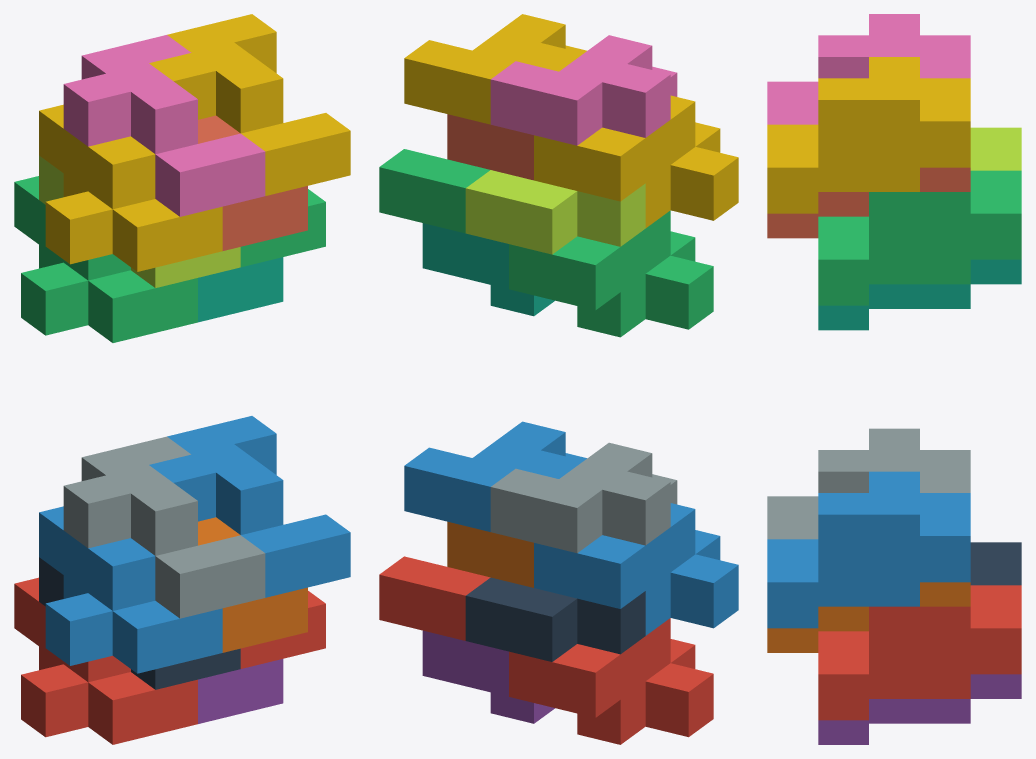
The model's file is tiling.obj.
3 renders of one model, left to right at view 1: azimuth 30°, elevation 25°; view 2: azimuth 150°, elevation 25°; view 3: azimuth 270°, elevation 25°, orthographic. The views are drawn at different scales.
Parts seen in each view (by area): view 1: copy_2_domain_2, copy_2_domain_4, copy_1_domain_2, copy_1_domain_4, copy_2_domain_8, copy_2_domain_6, copy_1_domain_1, copy_1_domain_3, copy_1_domain_6, copy_1_domain_8, copy_1_domain_7, copy_1_domain_5 (+4 smaller); view 2: copy_1_domain_1, copy_1_domain_3, copy_1_domain_4, copy_1_domain_2, copy_2_domain_2, copy_2_domain_4, copy_2_domain_1, copy_2_domain_3, copy_2_domain_6, copy_2_domain_8, copy_2_domain_5, copy_2_domain_7 (+4 smaller); view 3: copy_2_domain_6, copy_2_domain_8, copy_2_domain_5, copy_2_domain_7, copy_2_domain_4, copy_2_domain_2, copy_1_domain_7, copy_1_domain_5, copy_1_domain_6, copy_1_domain_8, copy_2_domain_1, copy_2_domain_3.
Boxes of the visible parts, box(x1,y1,x2,y2) form: copy_2_domain_2: box(63, 436, 265, 618); copy_2_domain_4: box(63, 35, 265, 216); copy_1_domain_2: box(39, 506, 222, 673); copy_1_domain_4: box(39, 104, 222, 271); copy_2_domain_8: box(149, 14, 350, 195); copy_2_domain_6: box(149, 416, 350, 597); copy_1_domain_1: box(14, 577, 197, 744); copy_1_domain_3: box(14, 176, 197, 342); copy_1_domain_6: box(198, 517, 307, 652); copy_1_domain_8: box(198, 115, 307, 250); copy_1_domain_7: box(198, 257, 283, 322); copy_1_domain_5: box(198, 659, 283, 723); copy_1_domain_1: box(509, 618, 713, 744); copy_1_domain_3: box(509, 210, 713, 337); copy_1_domain_4: box(534, 95, 738, 227); copy_1_domain_2: box(534, 503, 738, 635); copy_2_domain_2: box(490, 442, 677, 553); copy_2_domain_4: box(490, 35, 677, 145); copy_2_domain_1: box(465, 577, 645, 661); copy_2_domain_3: box(465, 170, 645, 254); copy_2_domain_6: box(404, 421, 586, 531); copy_2_domain_8: box(404, 14, 586, 124); copy_2_domain_5: box(379, 556, 490, 640); copy_2_domain_7: box(379, 149, 489, 233); copy_2_domain_6: box(767, 471, 970, 628); copy_2_domain_8: box(767, 57, 970, 213); copy_2_domain_5: box(818, 585, 1021, 720); copy_2_domain_7: box(818, 170, 1021, 305); copy_2_domain_4: box(767, 14, 970, 124); copy_2_domain_2: box(767, 428, 970, 539); copy_1_domain_7: box(818, 259, 1021, 330); copy_1_domain_5: box(818, 674, 1021, 744); copy_1_domain_6: box(767, 582, 970, 652); copy_1_domain_8: box(767, 167, 970, 238); copy_2_domain_1: box(970, 542, 1021, 585); copy_2_domain_3: box(970, 127, 1021, 170).
Size of the model in its own units: 6 by 14 by 5.
